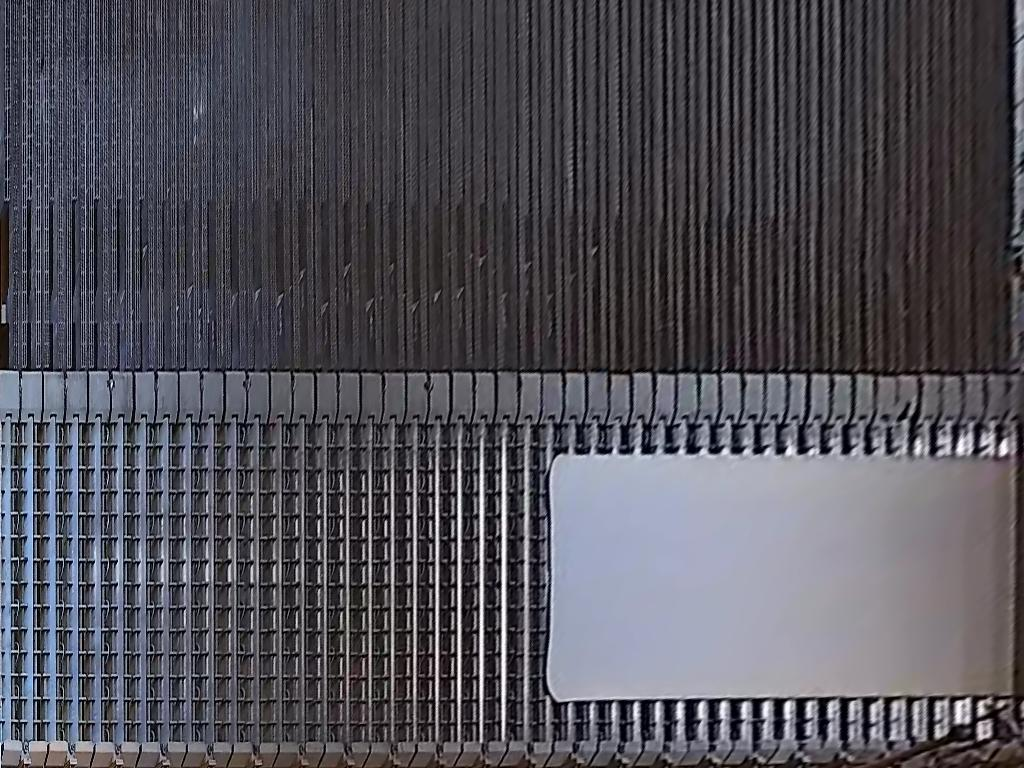steel: (544, 454, 1024, 702)
